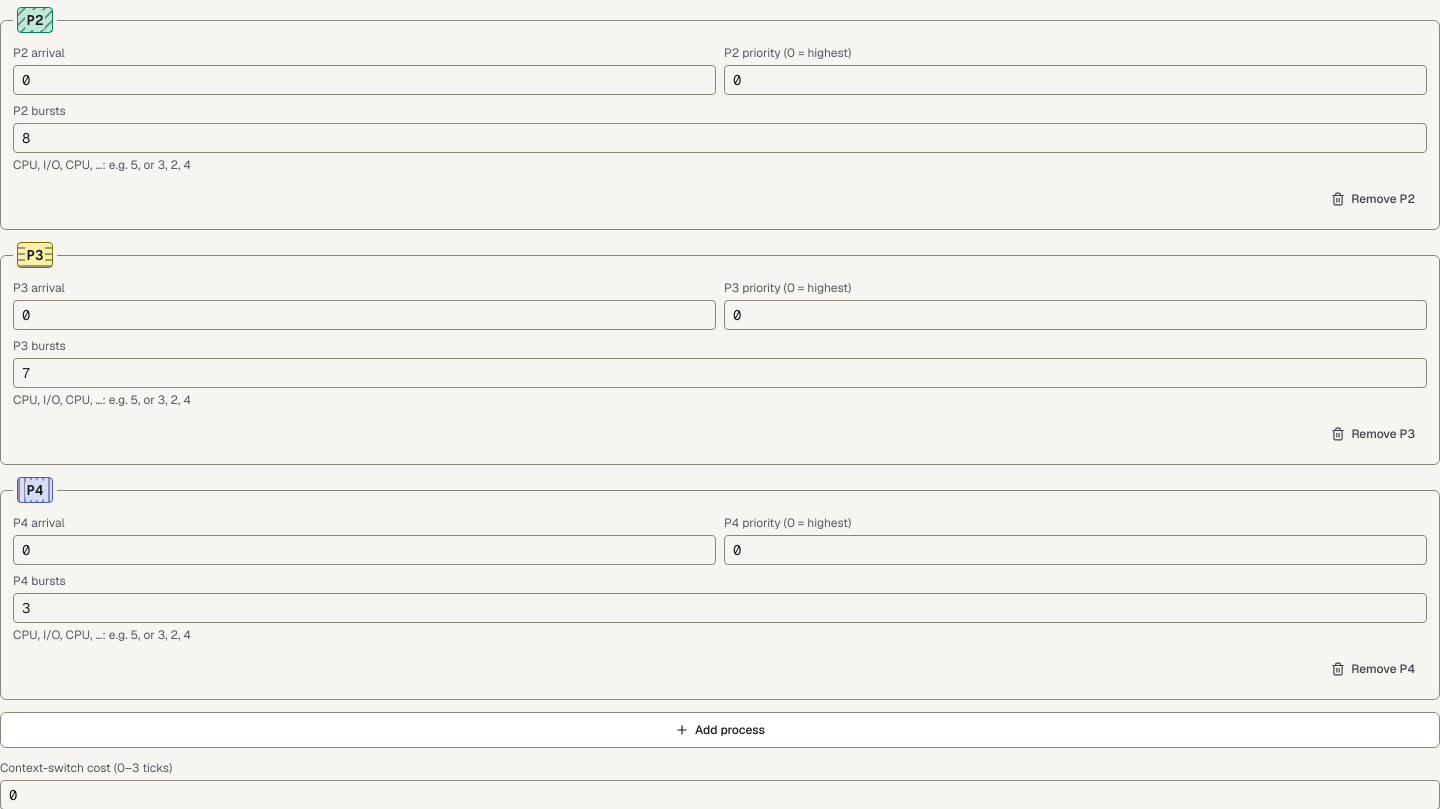
Test case: WorkloadEditor › adds and removes processes from the keyboard
(page scrolled)
Click the button "Add process" at [720, 730], box [0, 712, 1439, 748]
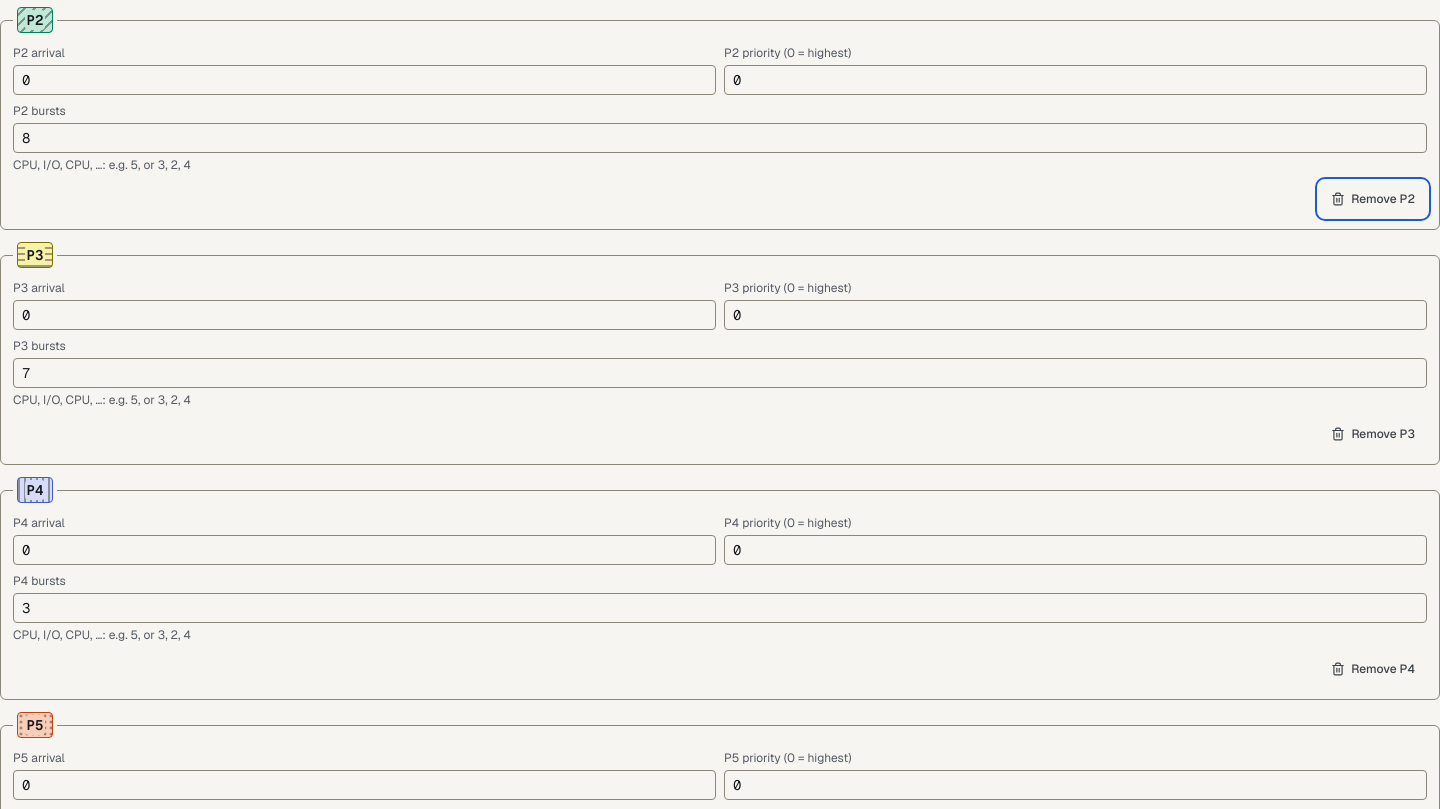
Expected: the field labelled "P5 arrival" is shown, [13, 770, 716, 800]
Press Enter
(page scrolled)
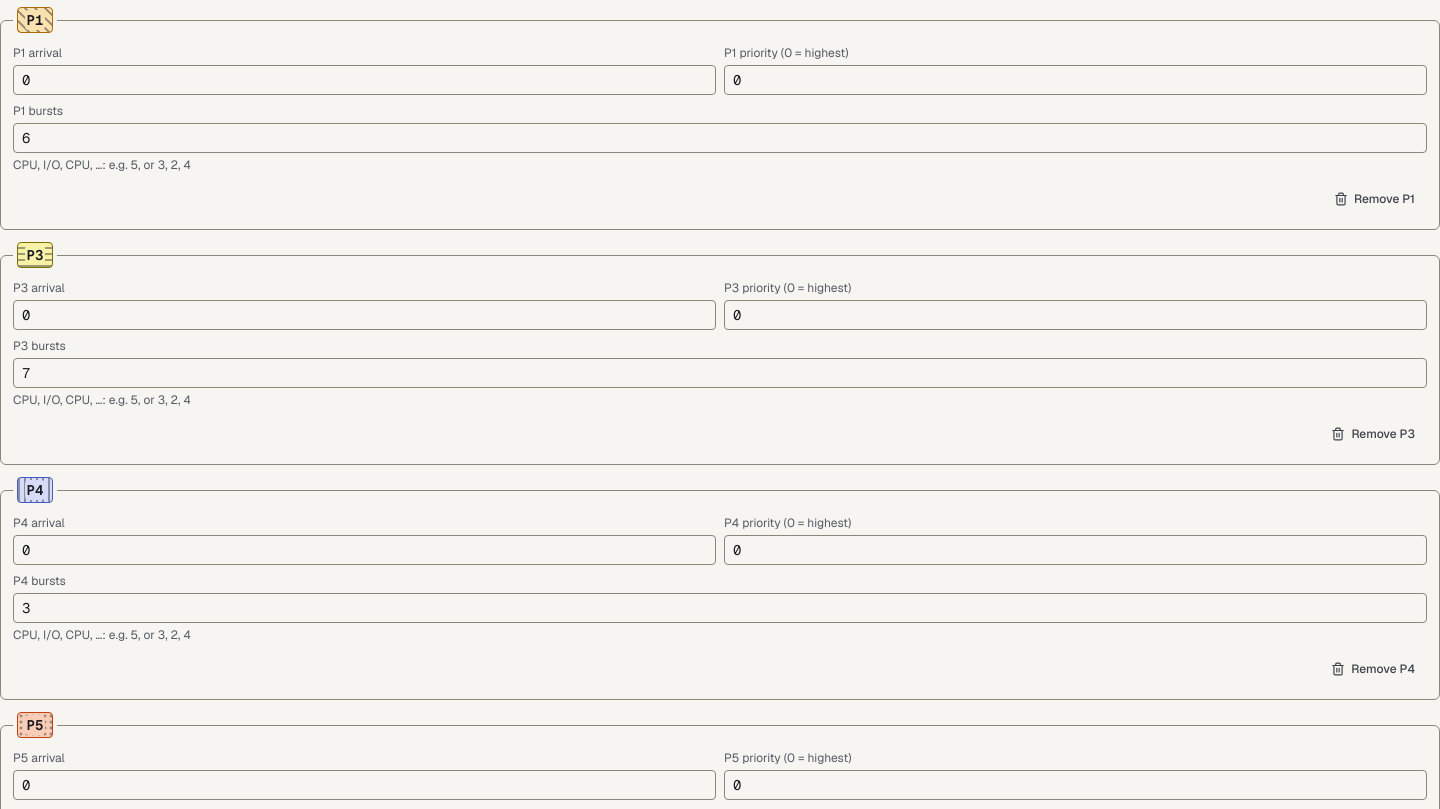
Expected: the label labelled "P2 arrival" is gone
